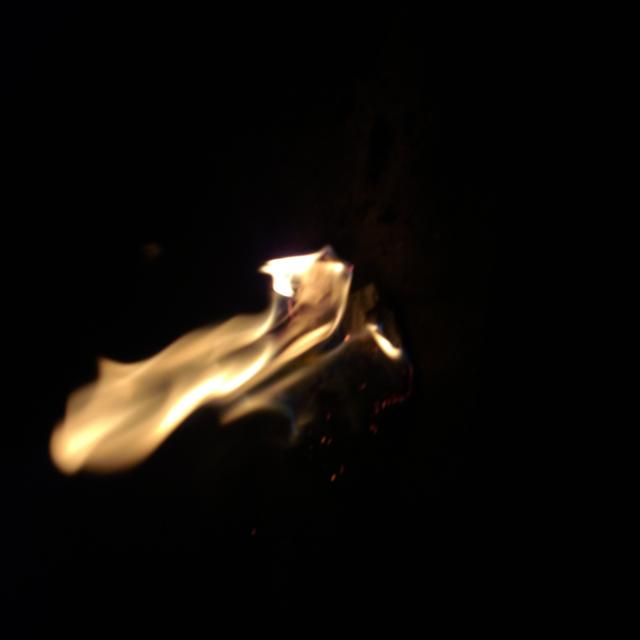Fire: (121, 67, 295, 474)
